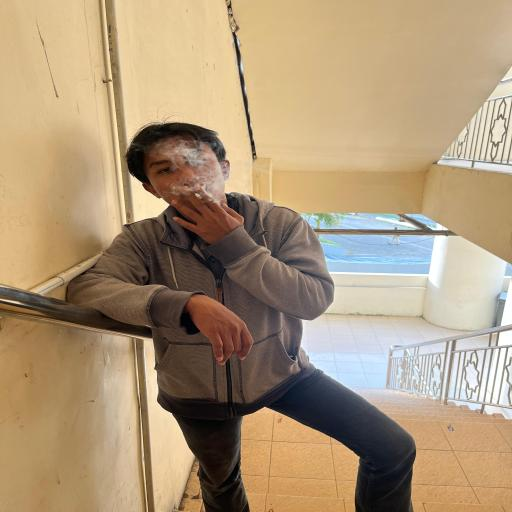dataset-deteksi-merokok: (157, 136, 230, 218)
